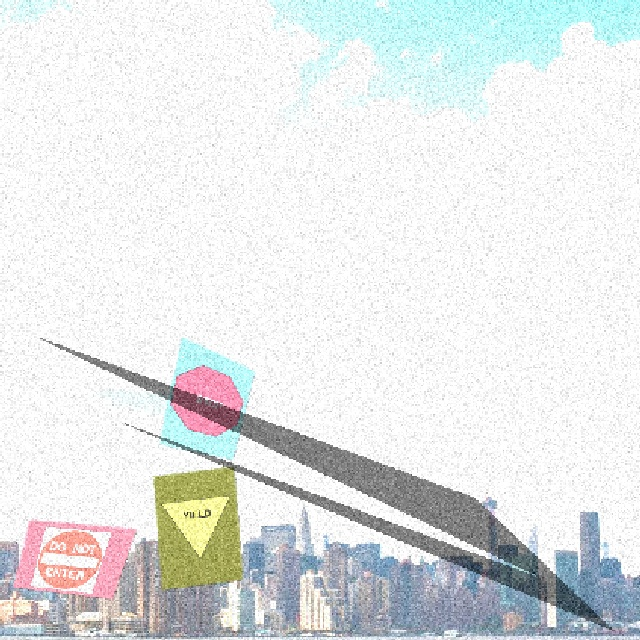DO_NOT_ENTER: (27, 520, 110, 596)
STOP: (163, 355, 250, 440)
YIELD: (160, 494, 234, 562)
